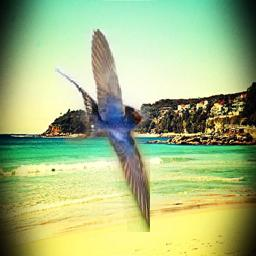Swallow: (56, 30, 151, 233)
